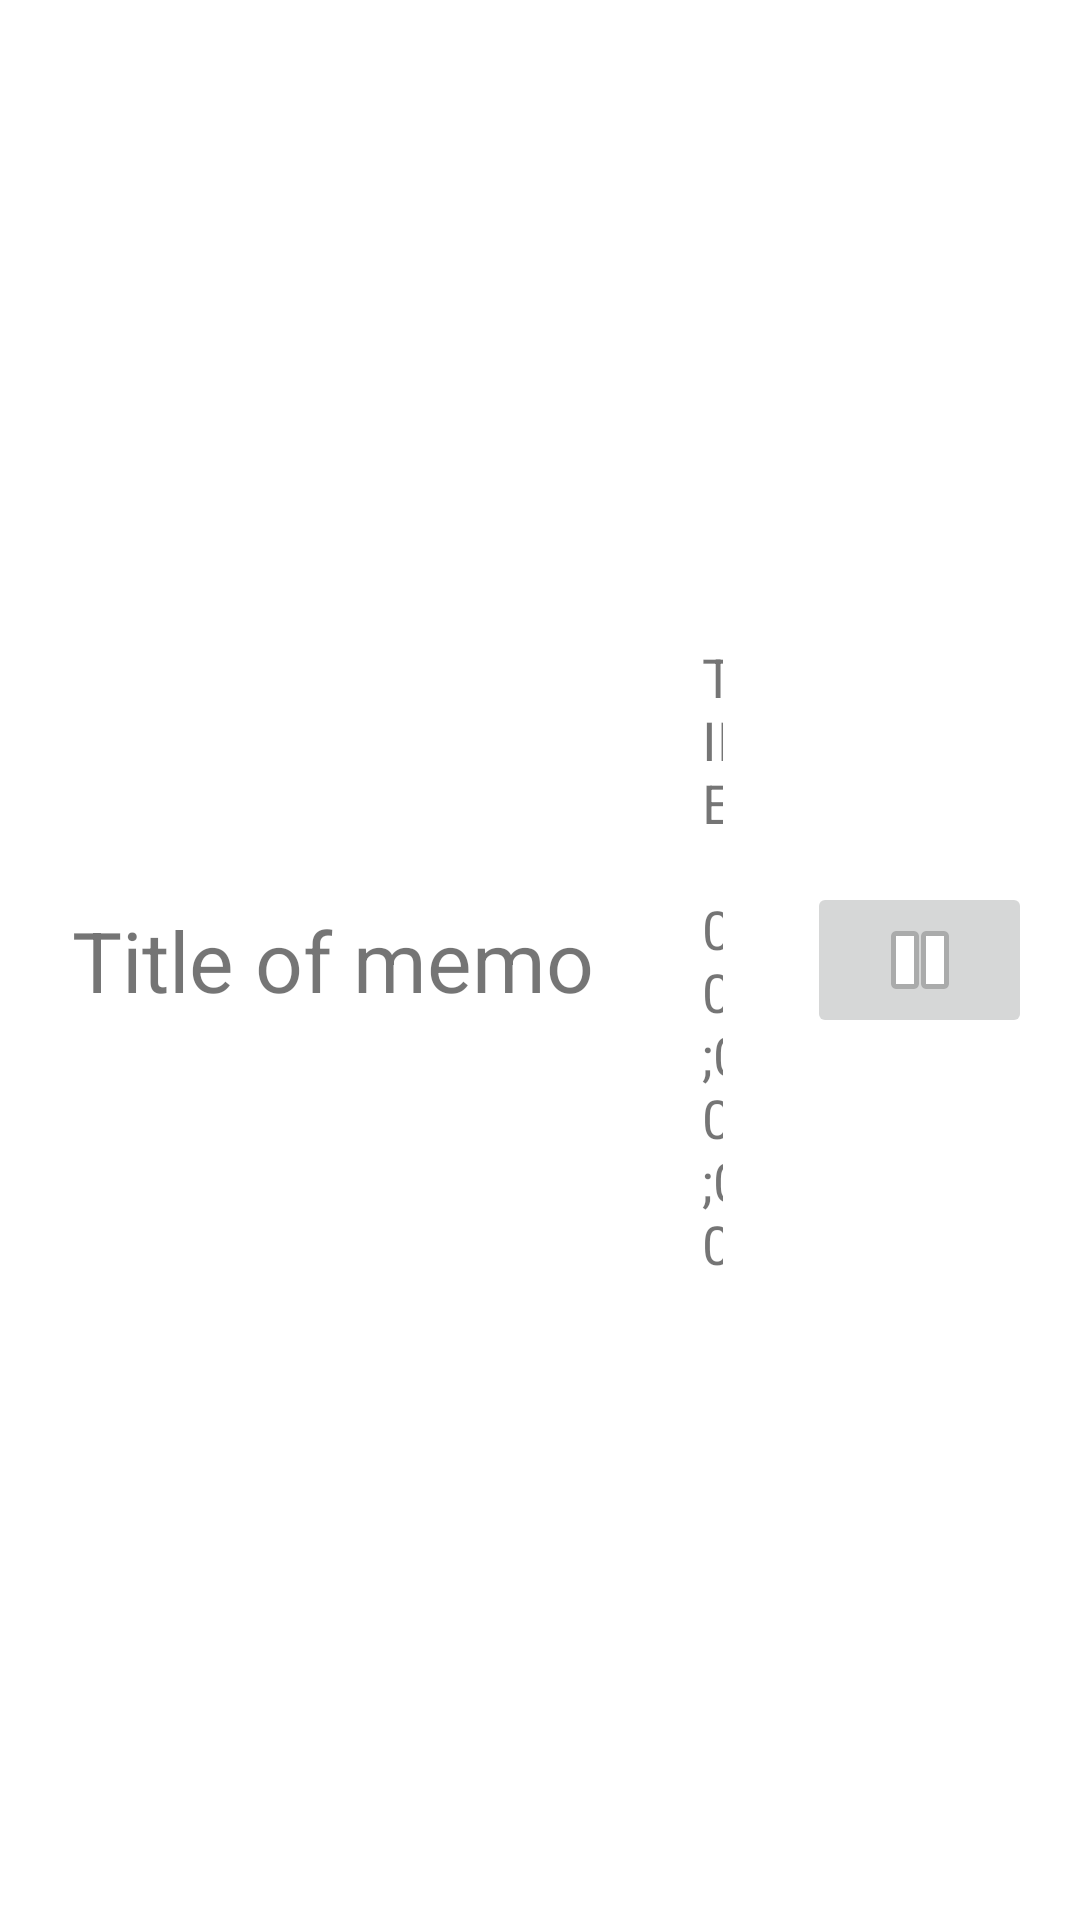

Screen size 1080px×1920px. Icon name, then its center in pixels as (x=x, y=y):
pause: (x=919, y=960)
